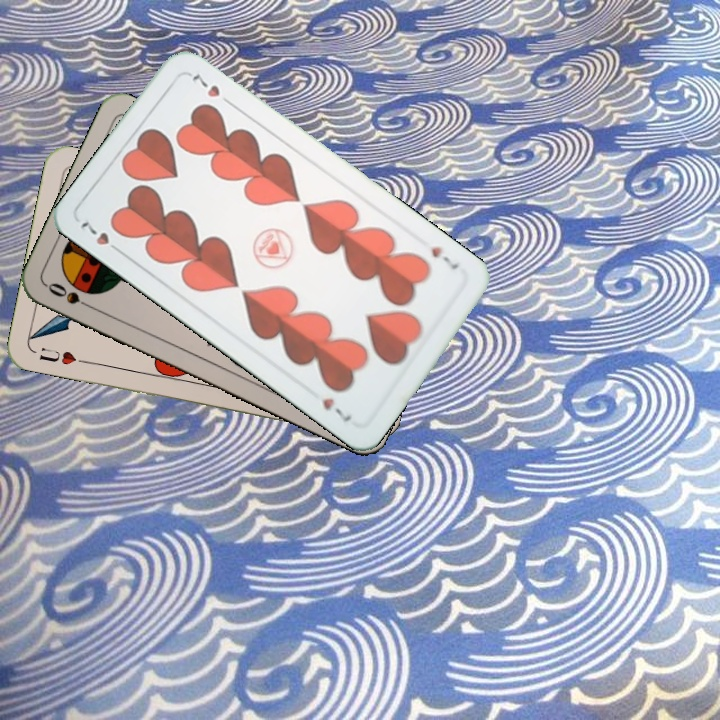H7: (76, 217, 126, 258), (427, 241, 462, 273)
HU: (35, 343, 89, 368)
SO: (44, 278, 98, 313)
